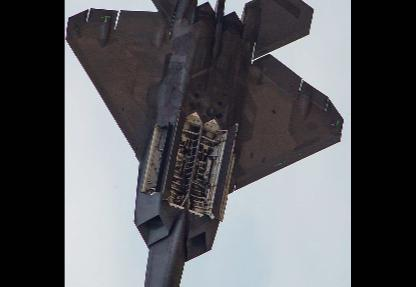F18: (66, 0, 346, 286)
